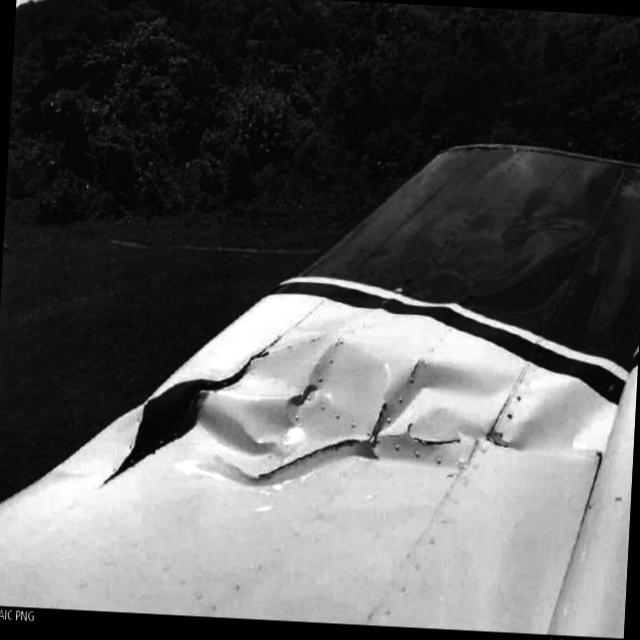crack: (261, 429, 371, 503), (396, 421, 453, 462), (365, 398, 393, 437), (410, 358, 427, 381)
